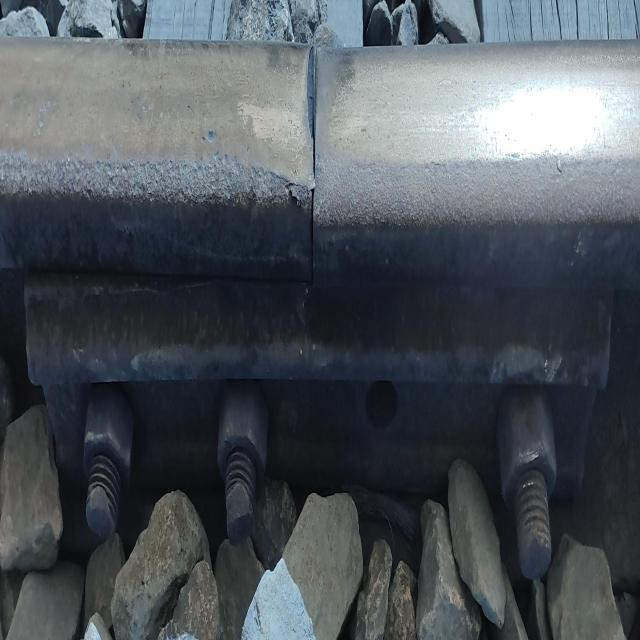Defective Joint: (30, 286, 610, 579)
